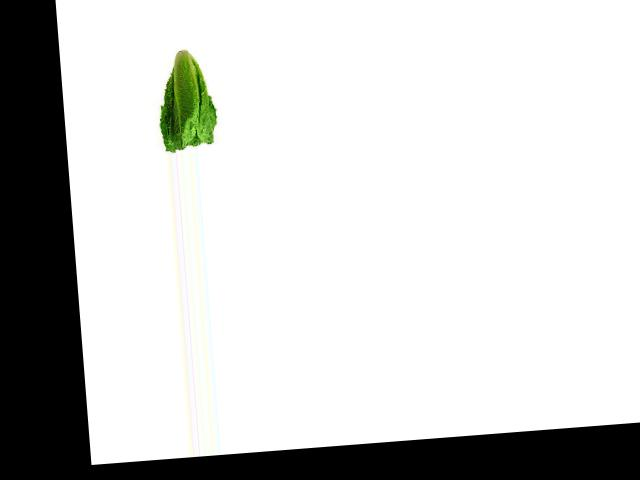lettuce: (149, 46, 222, 154)
